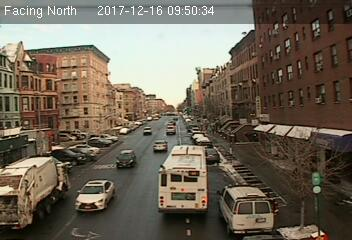bus: (157, 143, 211, 216)
car: (74, 180, 115, 216), (115, 150, 136, 169), (204, 146, 219, 162), (153, 140, 168, 152), (165, 125, 176, 134)
police: (215, 181, 274, 234)
